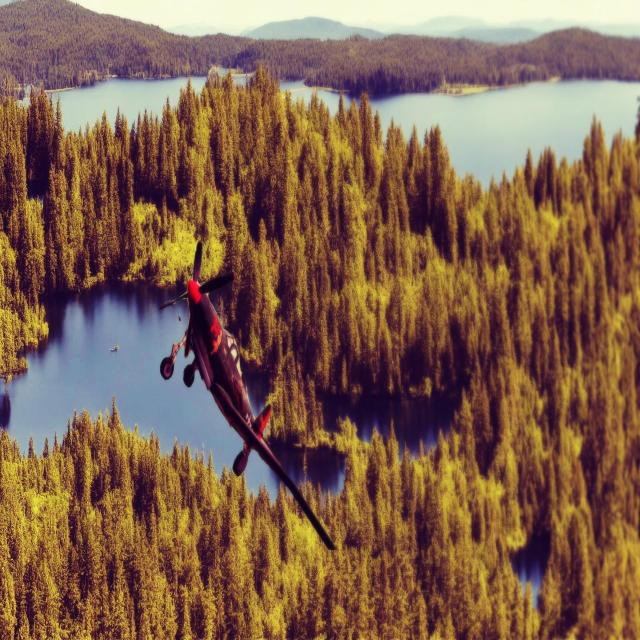airplane: (158, 240, 337, 551)
